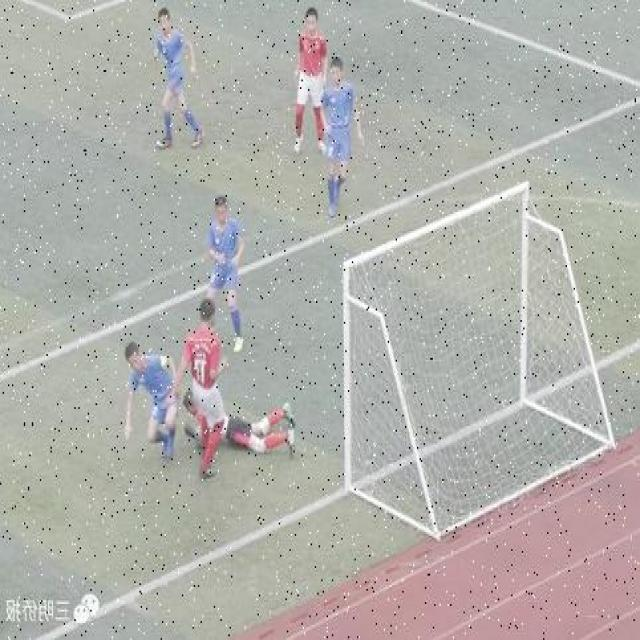fall: (183, 386, 300, 458)
